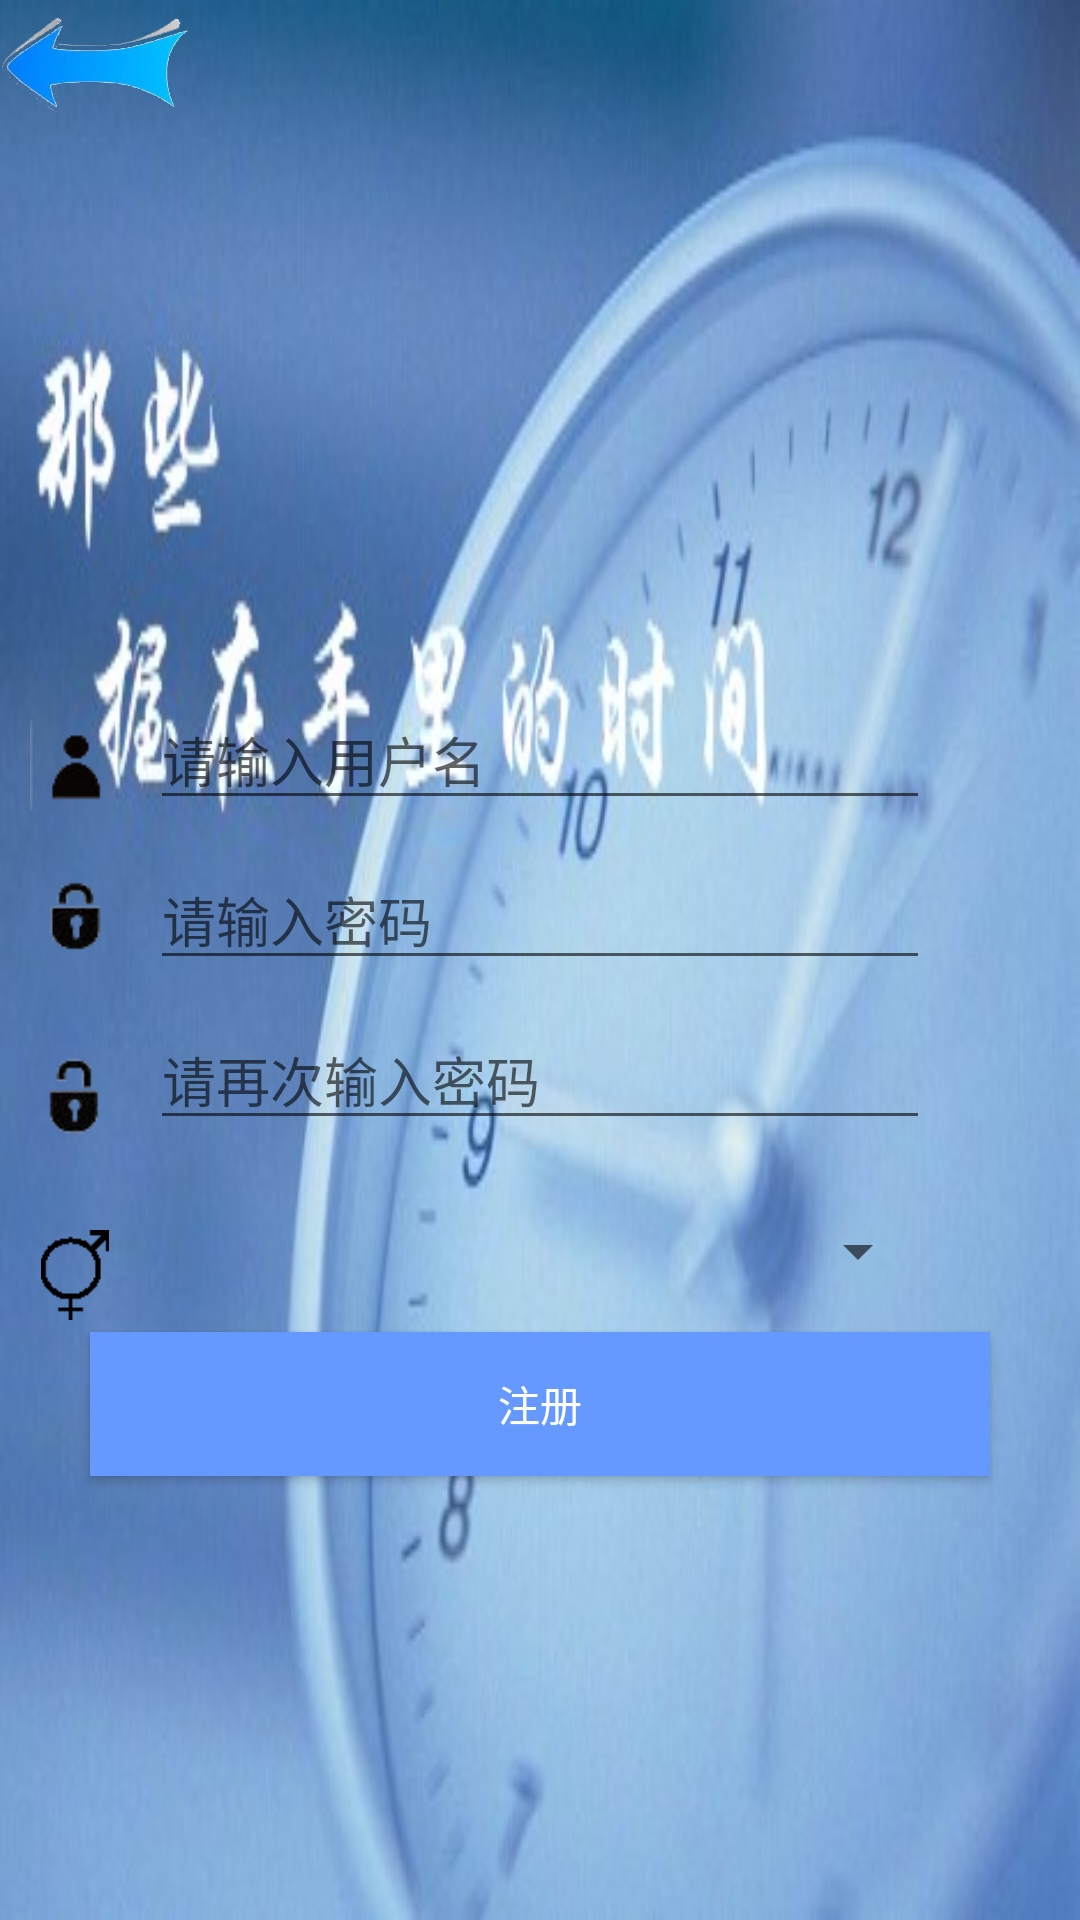

Screen size 1080*1920. Icon name, then its center in pixels as point (x, y):
arrow: point (95, 66)
